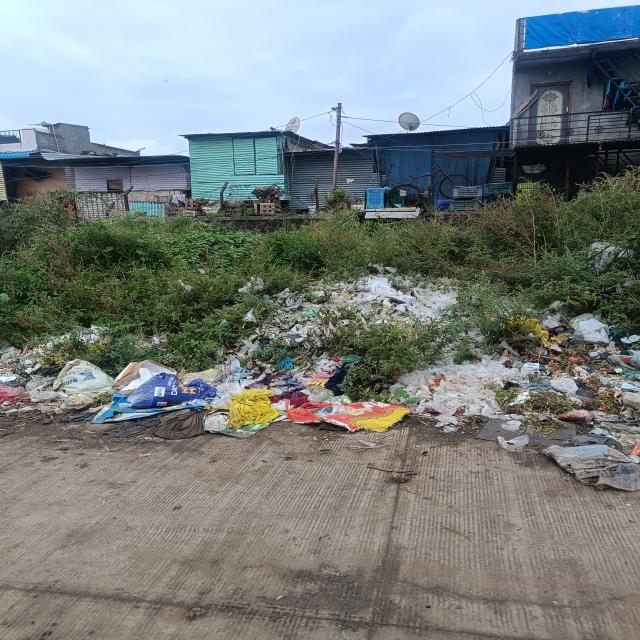garbage: (231, 273, 640, 466), (2, 323, 230, 435)
